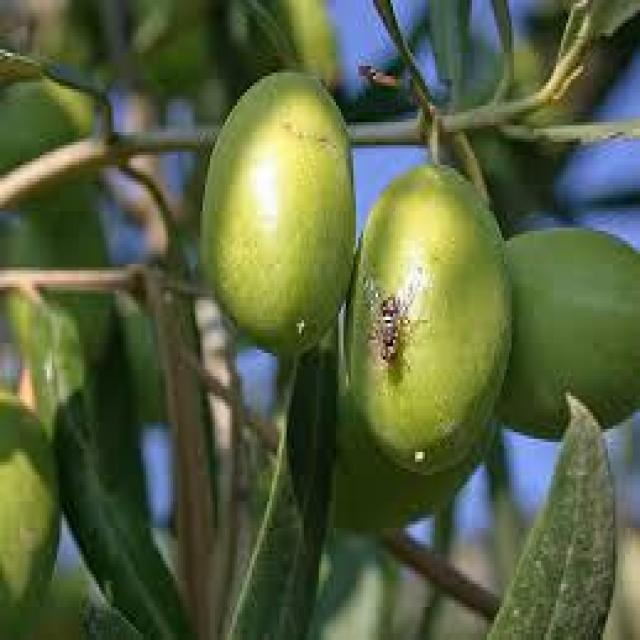Anthracnose: (347, 165, 509, 472)
